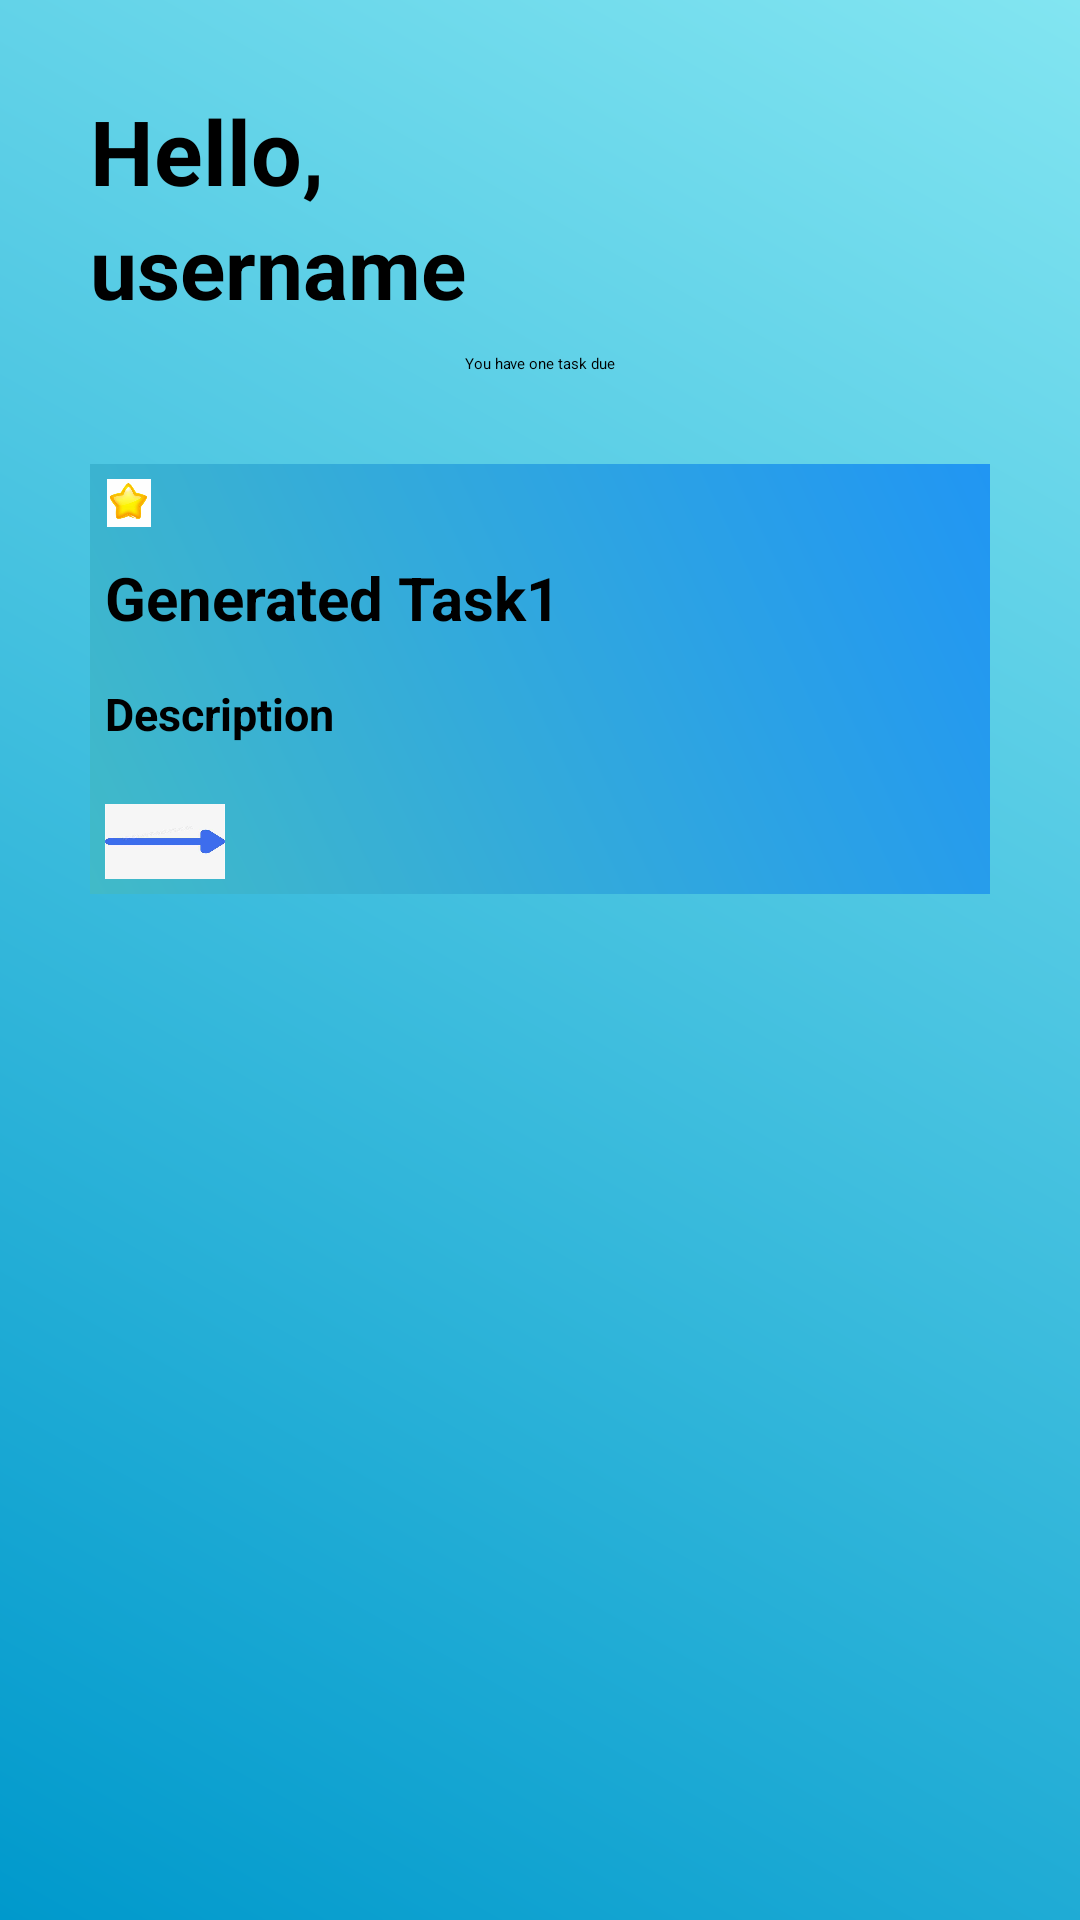

Screen size 1080 x 1920. Icon name, then its center in pixels as point (x, y):
arrow: point (165, 841)
star: point (129, 503)
